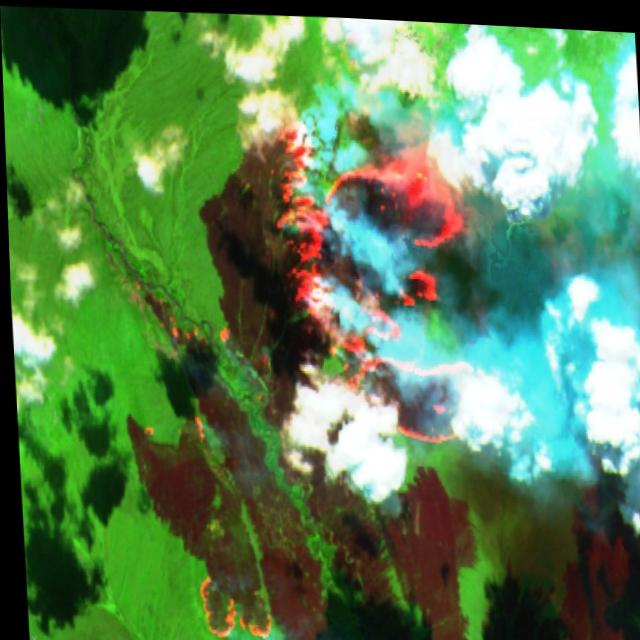fire: (266, 68, 490, 458), (188, 564, 274, 640)
